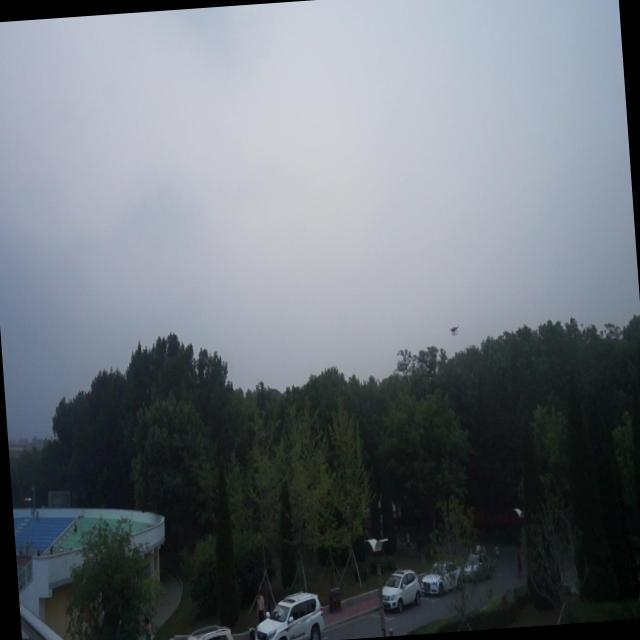drone: (446, 321, 462, 338)
